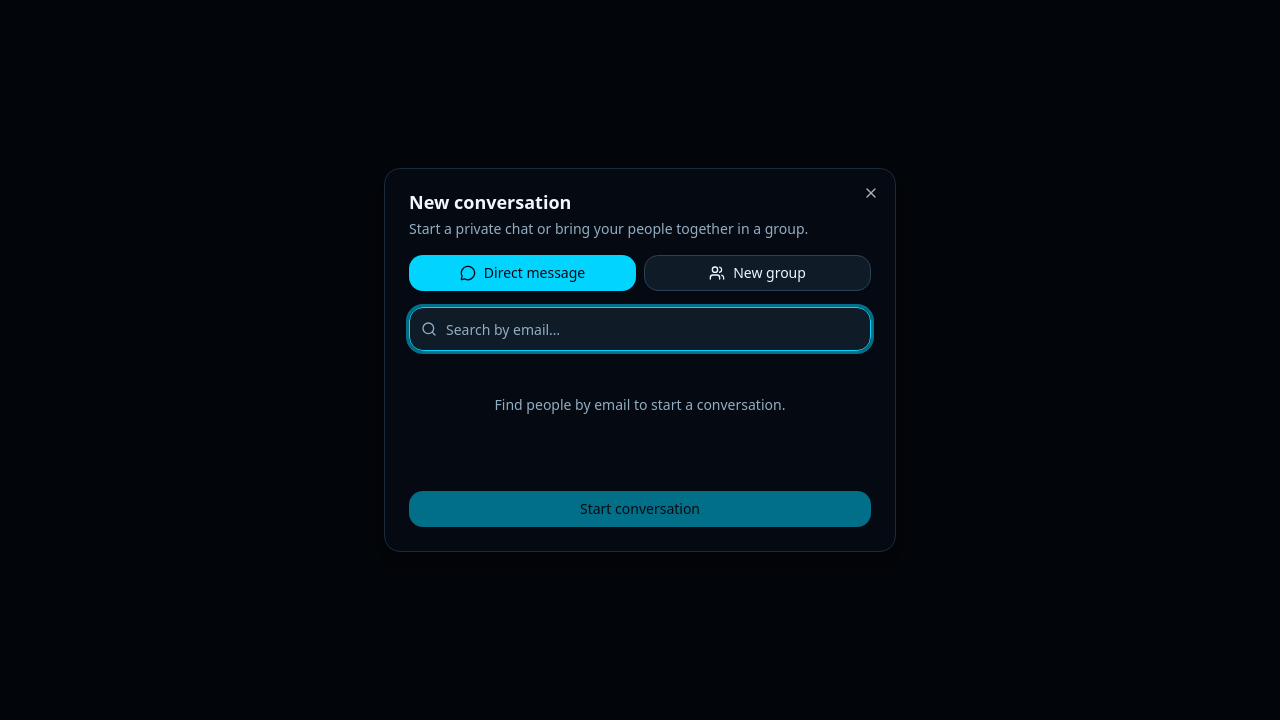
group conversation UX › uses an empty initial message for direct conversations
This screenshot has width=1280, height=720.
Type "alice" into the field named "Search contacts by email" at coordinates (640, 329), box x1=409 y1=307 x2=871 y2=351
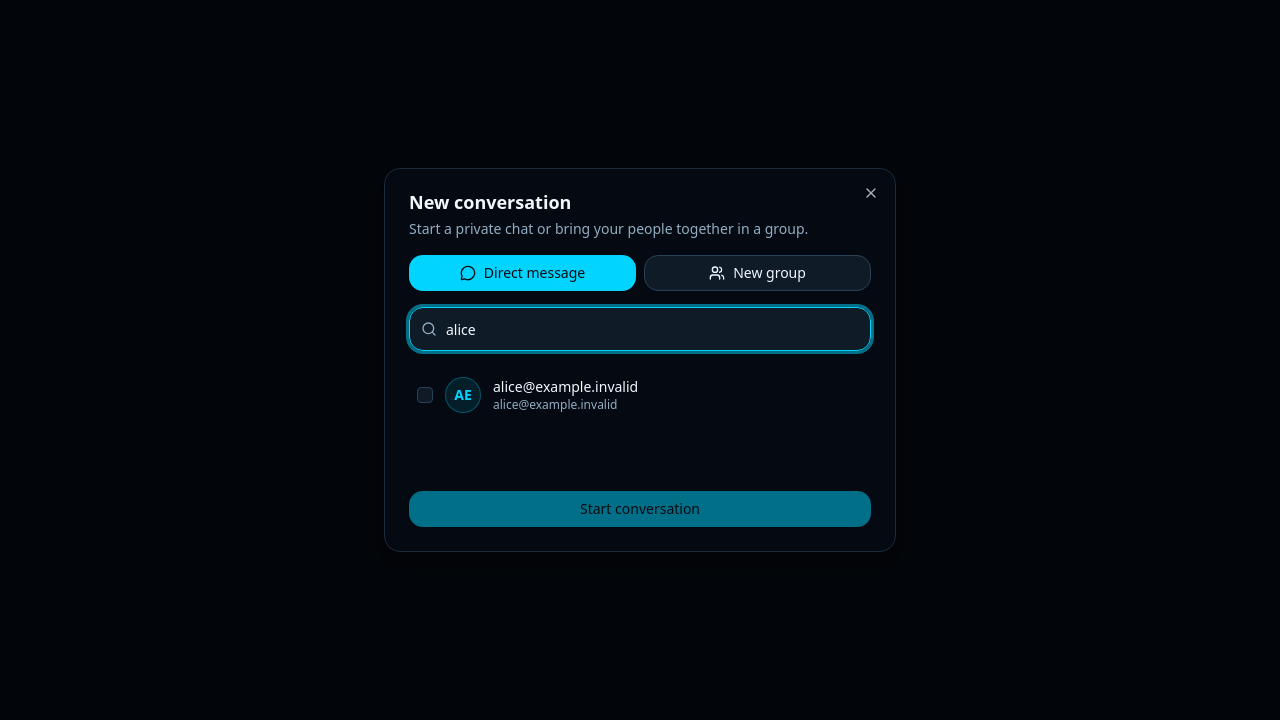
Click the checkbox at coordinates (425, 395), box x1=417 y1=387 x2=433 y2=403
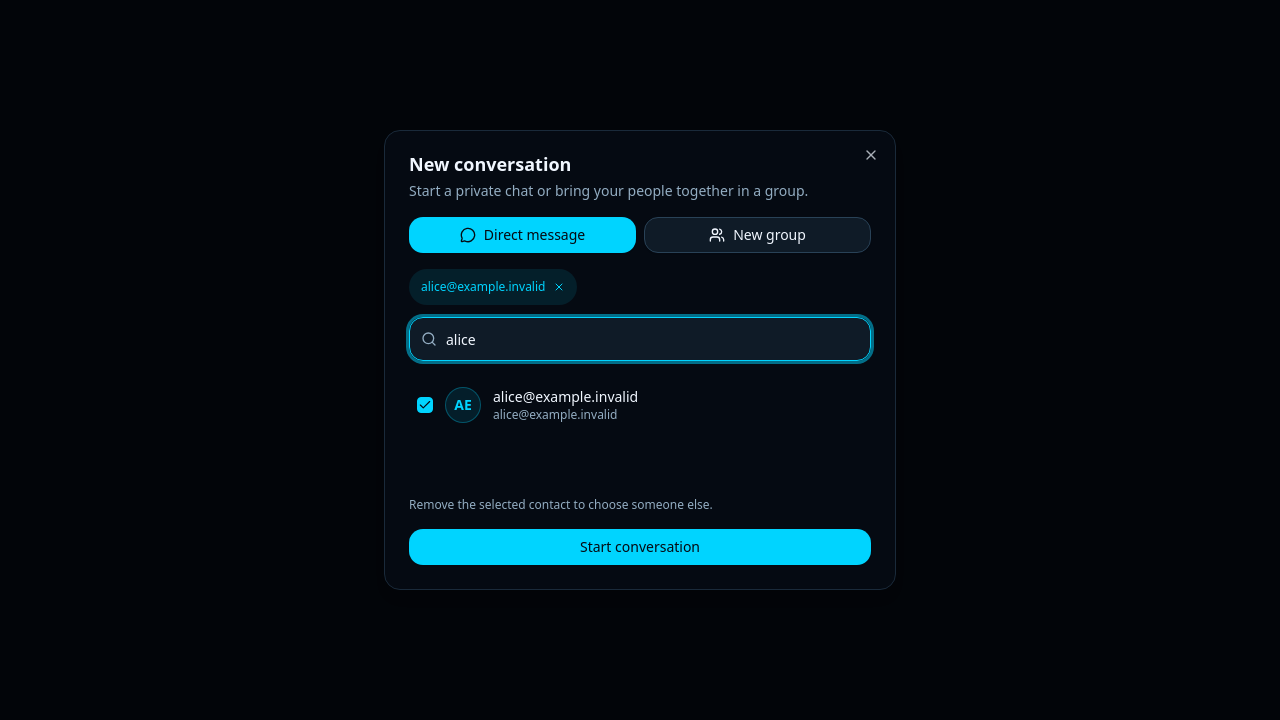
Click the button "Start conversation" at coordinates (640, 547), box x1=409 y1=529 x2=871 y2=565
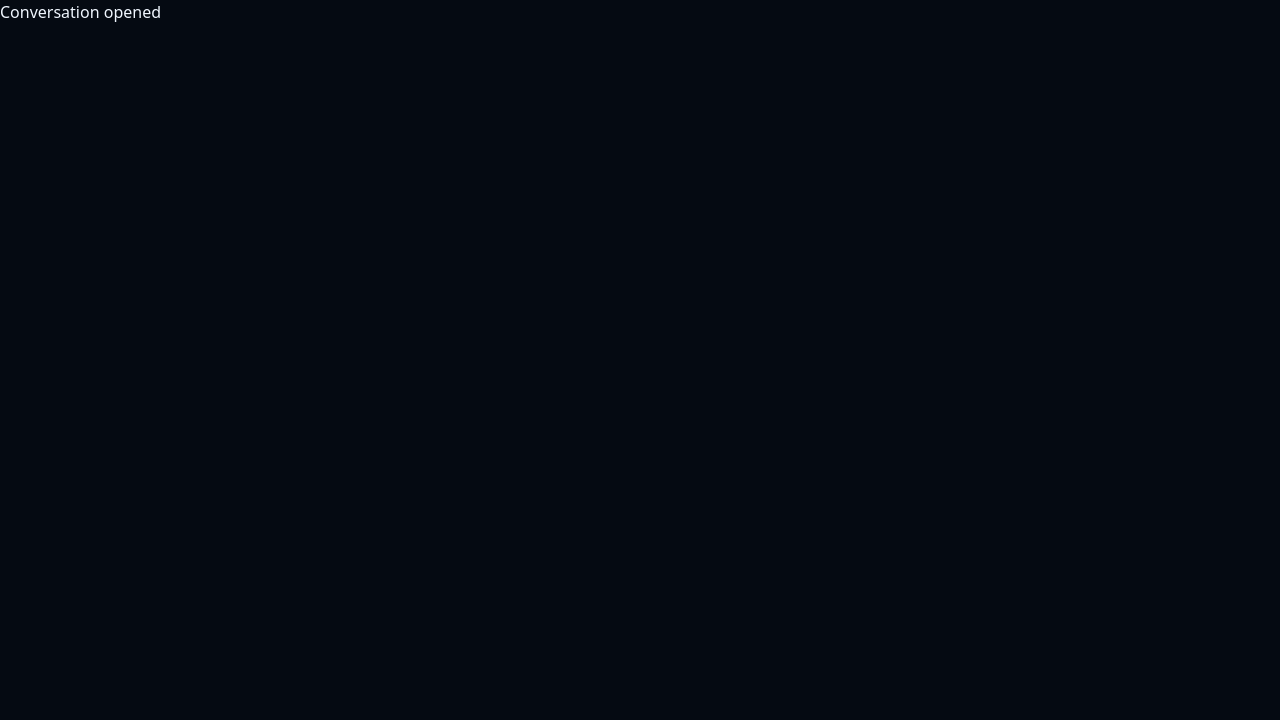
Now the text "Conversation opened" is shown, box x1=0 y1=1 x2=161 y2=23
